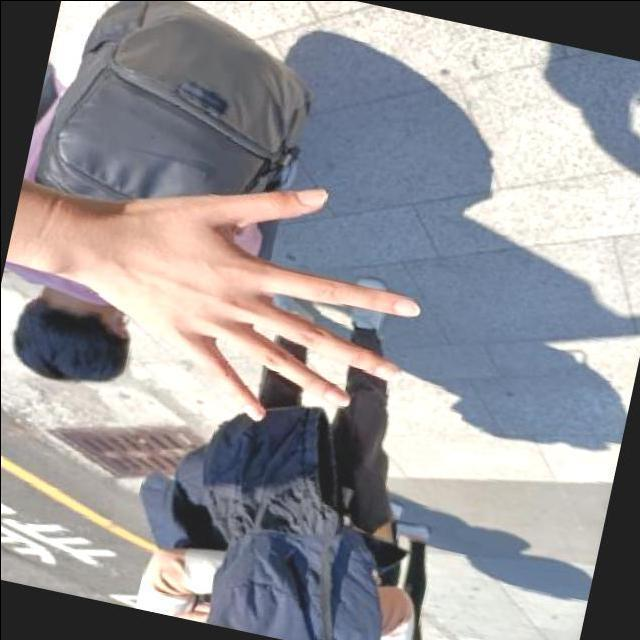hand: (44, 131, 456, 457)
